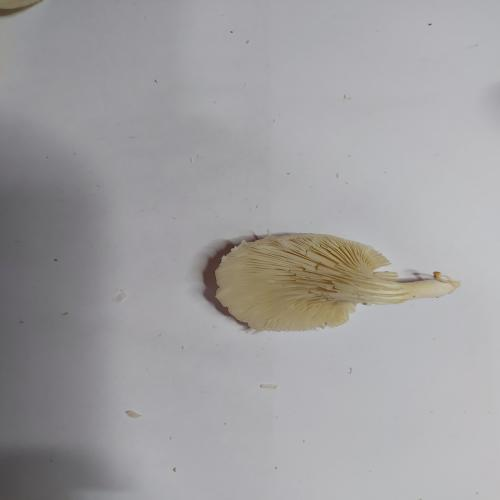Oyster Mushroom: (213, 231, 461, 333)
